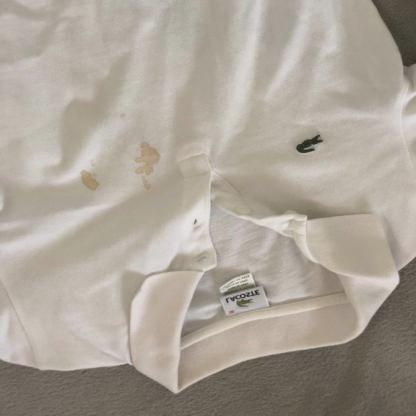coffee: (137, 142, 160, 176), (80, 171, 97, 190)
